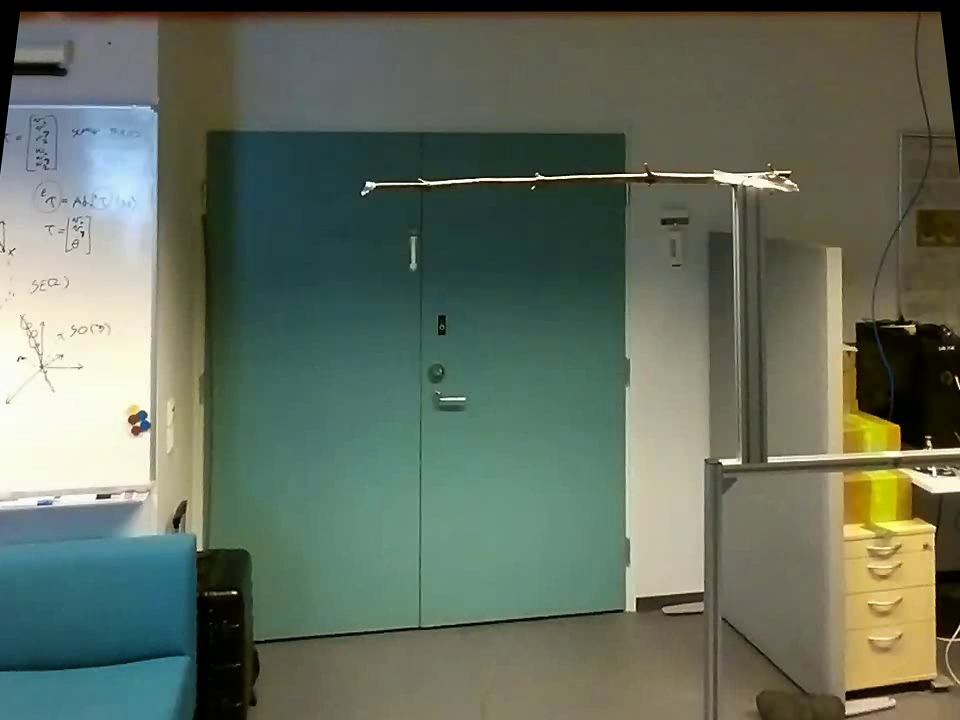aluminum_frame: (725, 188, 775, 458), (723, 441, 957, 486), (141, 99, 167, 488), (694, 453, 722, 719), (2, 476, 158, 517), (7, 96, 164, 116)
branch: (381, 155, 707, 194)
